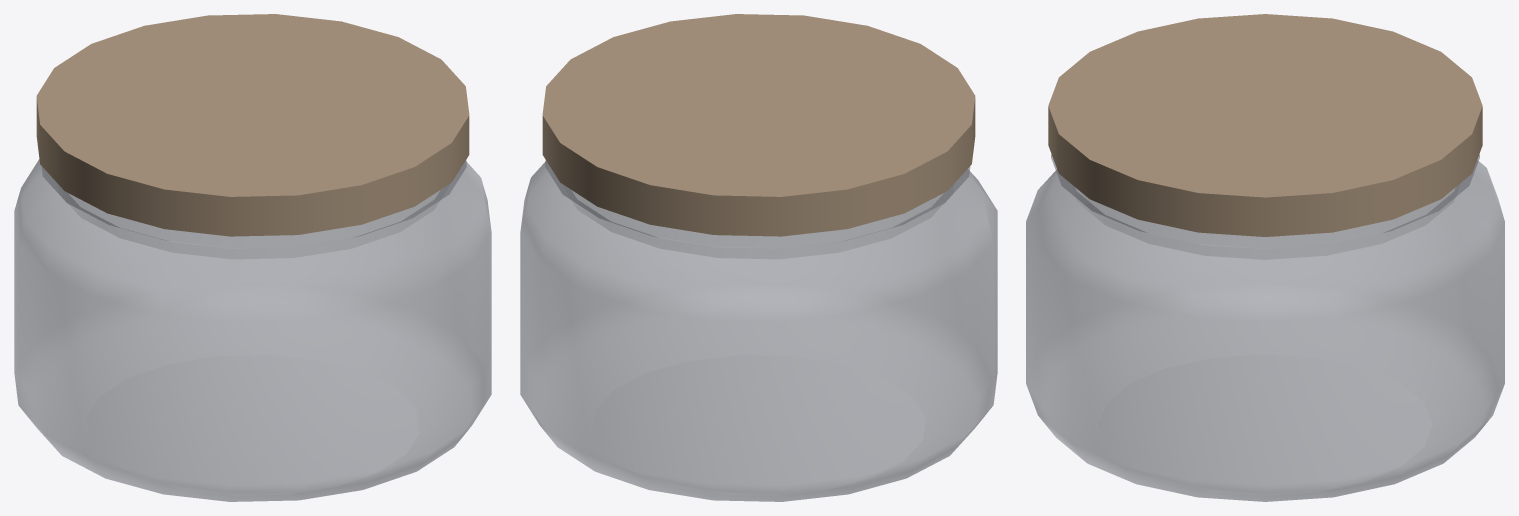
Rendered from Frasco_blocking_v2.fbx.
3 renders of one model, left to right at view 1: azimuth 30°, elevation 25°; view 2: azimuth 150°, elevation 25°; view 3: azimuth 270°, elevation 25°, orthographic.
Parts seen in each view (by area): view 1: Frasco, Tapa; view 2: Frasco, Tapa; view 3: Frasco, Tapa.
Part boxes in pixels (<box>): Frasco: <box>14,159,491,501</box>; Tapa: <box>36,14,469,236</box>; Frasco: <box>520,160,997,501</box>; Tapa: <box>542,14,975,236</box>; Frasco: <box>1026,154,1504,501</box>; Tapa: <box>1048,14,1482,236</box>.
Bounding box in the file's own units: 1.9 × 1.4 × 1.9.
